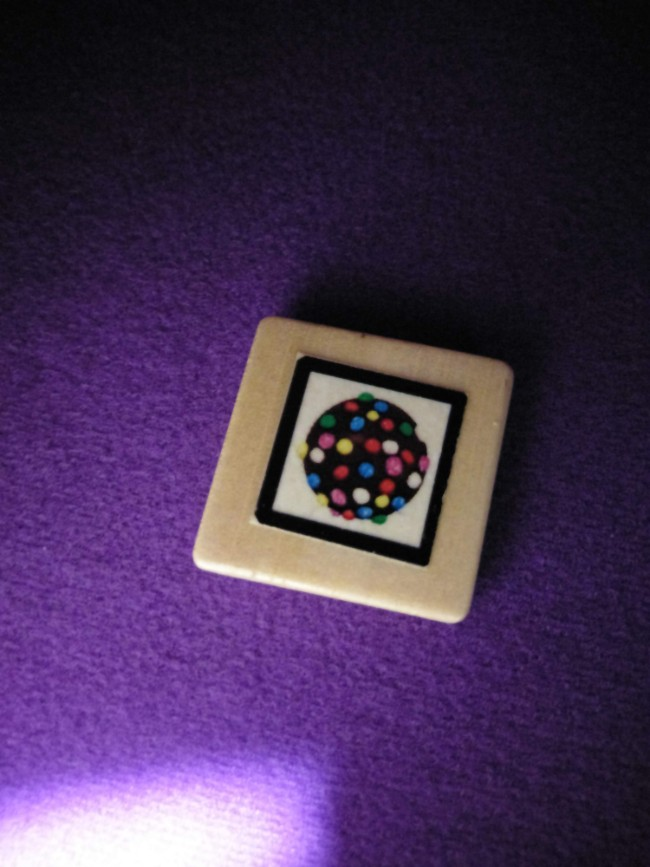cookie: (262, 365, 457, 554)
